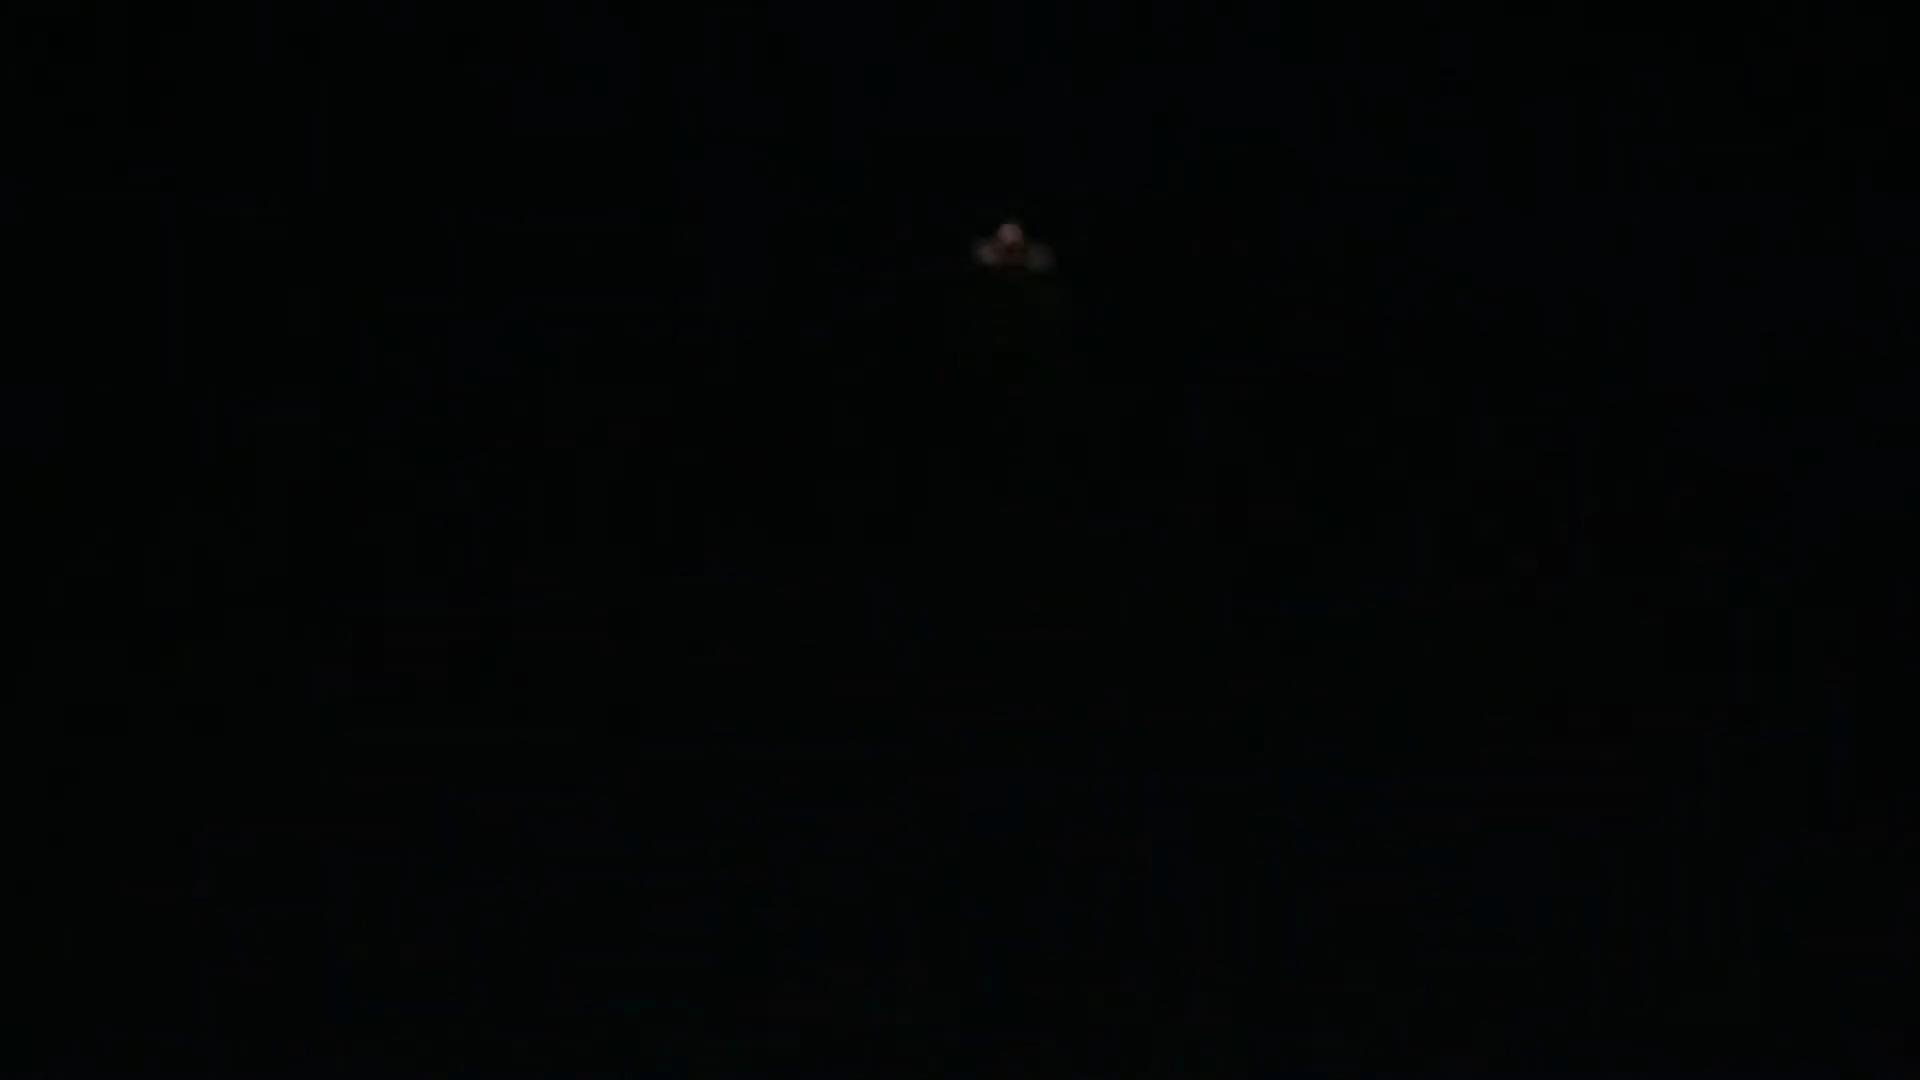Plane: (914, 196, 1122, 295)
